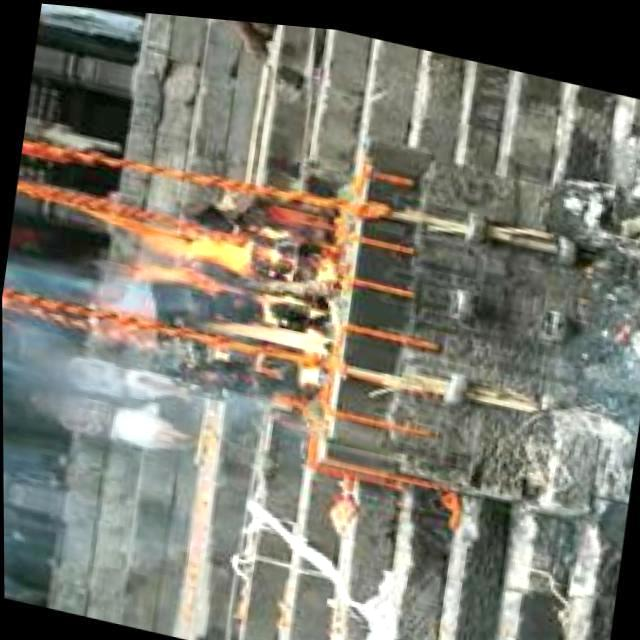fire: (100, 196, 340, 370)
